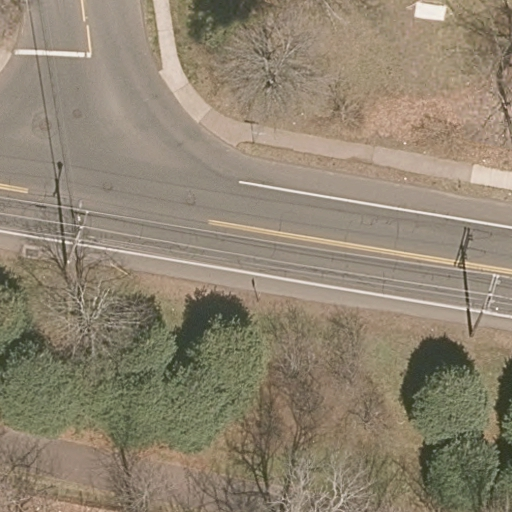DT: (470, 272, 501, 337), (65, 201, 89, 284)
